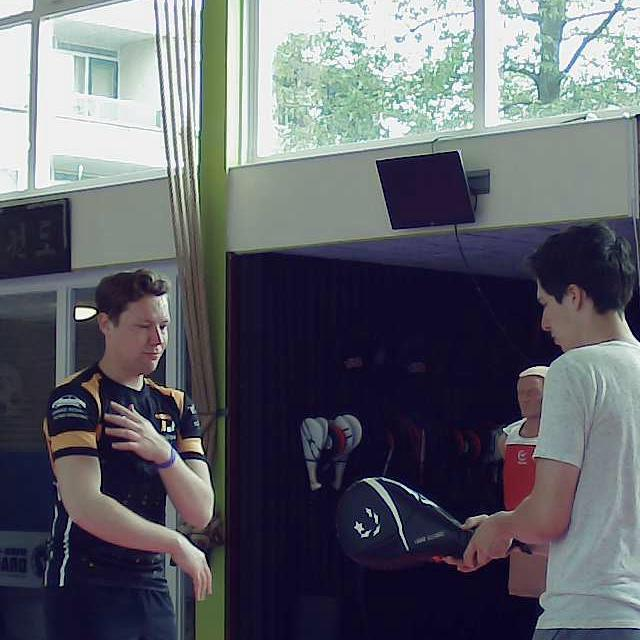paddle: (333, 471, 475, 574)
